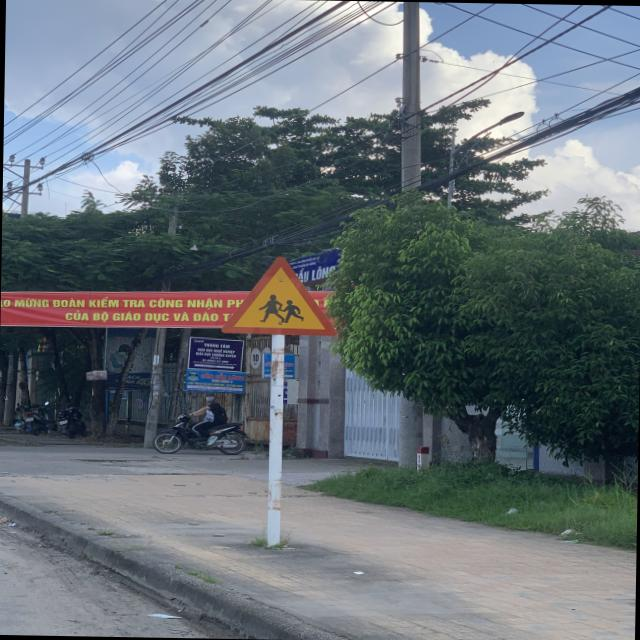Vong_Xuyen: (221, 255, 337, 336)
